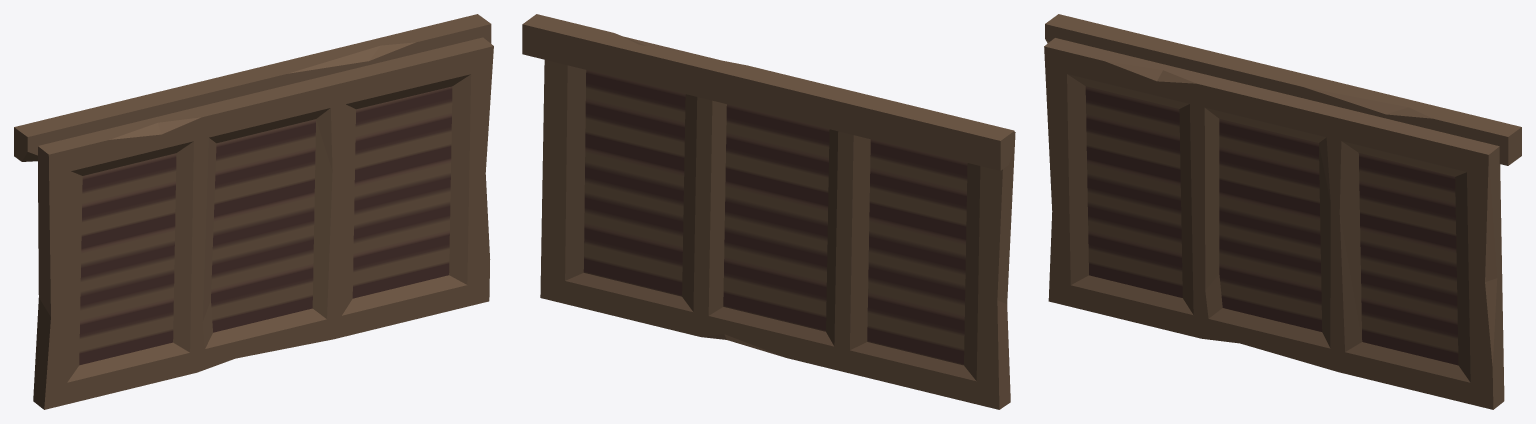
File: SM_Bld_Window_Shutter_04.glb
The picture shows the model from 3 angles, left to right: view 1: azimuth 30°, elevation 25°; view 2: azimuth 150°, elevation 25°; view 3: azimuth 330°, elevation 25°; orthographic projection. The views are drawn at different scales.
Visible parts, largest first — view 1: SM_Bld_Window_Shutter_04; view 2: SM_Bld_Window_Shutter_04; view 3: SM_Bld_Window_Shutter_04.
Boxes of the visible parts, x1,y1,x2,y2 form: SM_Bld_Window_Shutter_04: (14, 14, 493, 409); SM_Bld_Window_Shutter_04: (522, 14, 1015, 409); SM_Bld_Window_Shutter_04: (1044, 14, 1521, 409).
Bounding box in the file's own units: 2.43 × 1.36 × 0.2239.
1 material, 1 textured.
